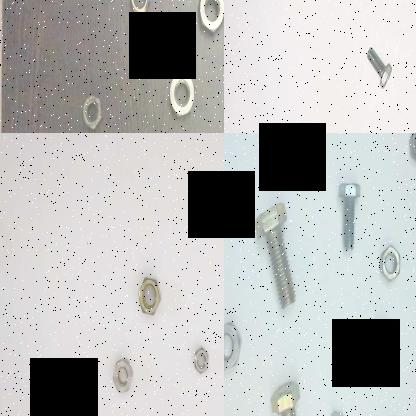Bolts: (246, 189, 304, 317), (334, 172, 368, 258), (362, 41, 396, 94), (269, 376, 311, 416)
NUTS: (164, 58, 198, 121), (370, 312, 396, 362), (224, 314, 244, 377), (378, 238, 402, 288), (136, 274, 162, 320), (193, 0, 224, 37), (83, 87, 105, 133), (110, 357, 134, 397), (190, 344, 212, 376), (129, 0, 154, 22), (403, 133, 416, 167)
